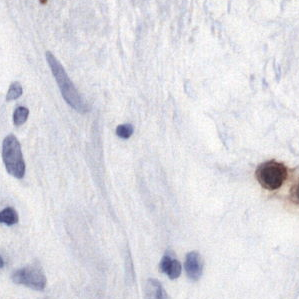Lymphocyte: (255, 161, 289, 190)
